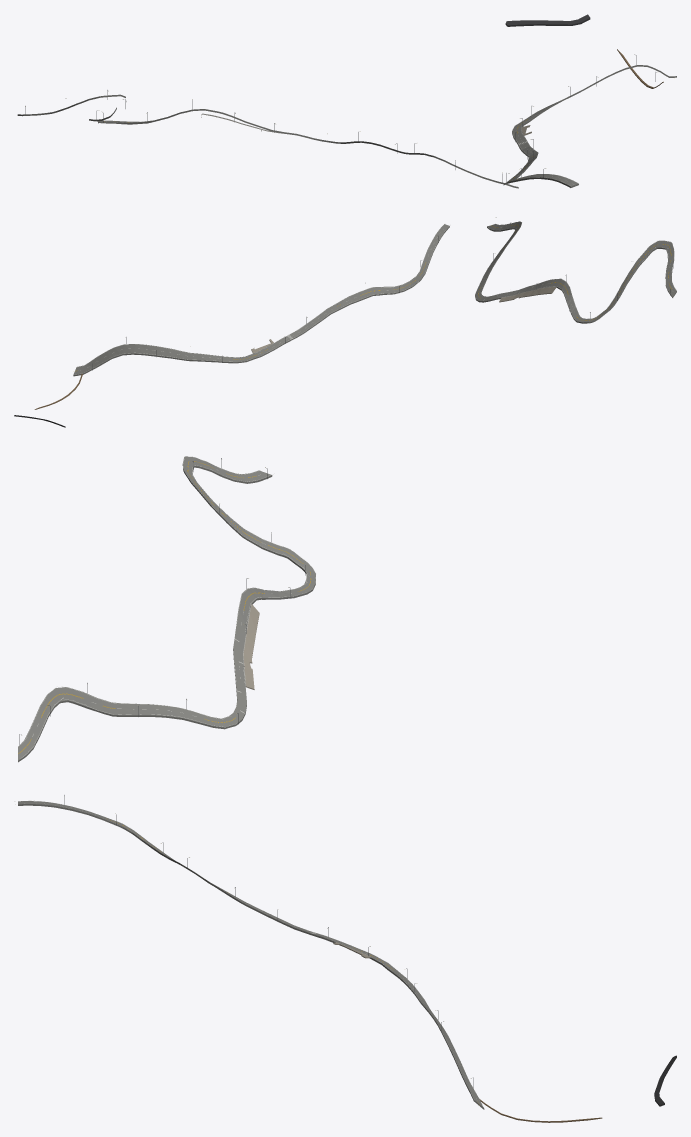
Rendered from 16-54744-29735.6657adcd.glb.
The picture shows the model from 3 angles, top to bottom: view 1: azimuth 30°, elevation 25°; view 2: azimuth 150°, elevation 25°; view 3: azimuth 270°, elevation 25°; orthographic projection. The views are drawn at different scales.
Size of the model in its own units: 590 by 206 by 416.
